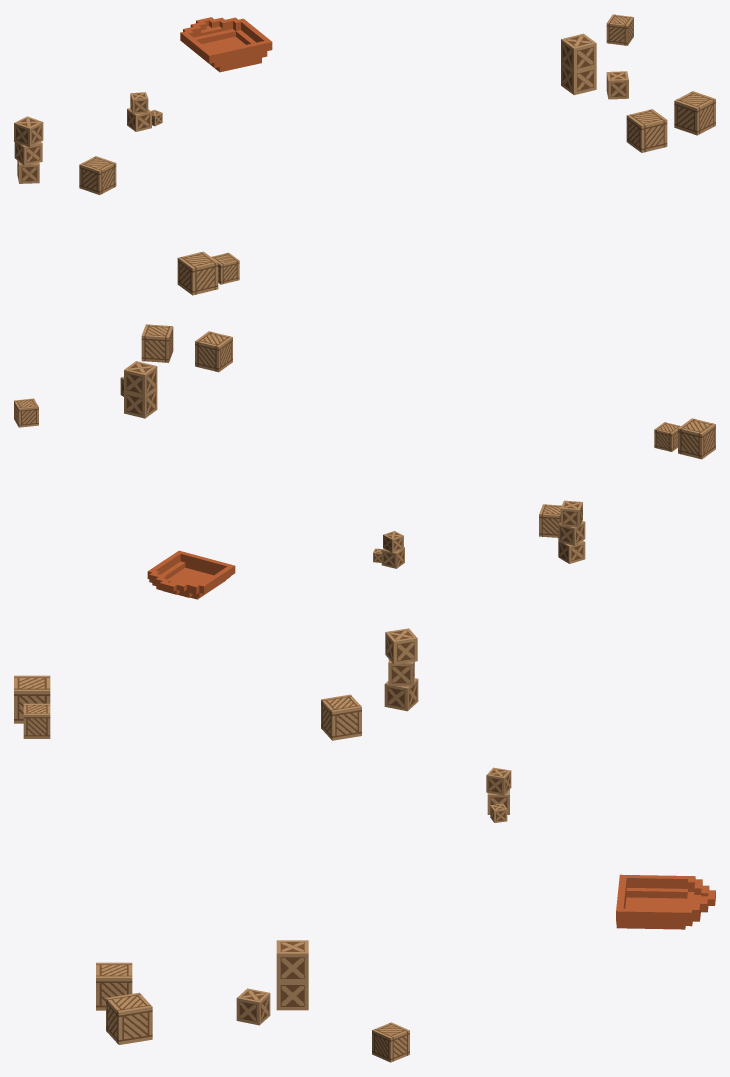
File: background_portTown_object.glb
3 renders of one model, top to bottom at view 1: azimuth 30°, elevation 25°; view 2: azimuth 150°, elevation 25°; view 3: azimuth 270°, elevation 25°, orthographic. The views are drawn at different scales.
Visible parts, largest first — view 1: Untitled.011, Untitled.007, Untitled.008, Untitled.005, Untitled.016, Untitled.002, Untitled.010, Untitled.012, Untitled.015, Untitled.006, Untitled.004, Untitled.014 (+2 smaller); view 2: Untitled.011, Untitled.005, Untitled.007, Untitled.008, Untitled.002, Untitled.010, Untitled.016, Untitled.012, Untitled.006, Untitled.015, Untitled.013, Untitled.014; view 3: Untitled.011, Untitled.008, Untitled.016, Untitled.002, Untitled.007, Untitled.005, Untitled.012, Untitled.004, Untitled.015, Untitled.006, Untitled.010, Untitled.013.
Boxes of the visible parts, x1,y1,x2,y2 form: Untitled.011: [180, 17, 272, 72]; Untitled.007: [626, 109, 667, 152]; Untitled.008: [674, 91, 715, 135]; Untitled.005: [177, 251, 218, 295]; Untitled.016: [79, 156, 116, 194]; Untitled.002: [561, 33, 596, 72]; Untitled.010: [561, 63, 596, 95]; Untitled.012: [606, 14, 633, 45]; Untitled.015: [14, 116, 43, 147]; Untitled.006: [211, 252, 239, 284]; Untitled.004: [606, 71, 628, 99]; Untitled.014: [14, 142, 42, 165]; Untitled.011: [147, 550, 235, 599]; Untitled.005: [678, 418, 715, 459]; Untitled.007: [195, 331, 232, 372]; Untitled.008: [141, 324, 173, 362]; Untitled.002: [124, 361, 157, 396]; Untitled.010: [124, 389, 157, 418]; Untitled.016: [539, 504, 561, 537]; Untitled.012: [14, 398, 38, 427]; Untitled.006: [654, 422, 680, 451]; Untitled.015: [560, 500, 582, 527]; Untitled.013: [558, 540, 585, 563]; Untitled.014: [558, 521, 585, 545]; Untitled.011: [616, 874, 715, 929]; Untitled.008: [106, 992, 152, 1044]; Untitled.016: [321, 694, 361, 740]; Untitled.002: [276, 940, 308, 982]; Untitled.007: [96, 962, 132, 1010]; Untitled.005: [14, 675, 50, 723]; Untitled.012: [372, 1022, 409, 1062]; Untitled.004: [236, 988, 270, 1025]; Untitled.015: [385, 628, 417, 664]; Untitled.006: [23, 703, 50, 738]; Untitled.010: [276, 982, 308, 1010]; Untitled.013: [384, 678, 418, 711].
Bounding box in the file's own units: 23.81 × 3.11 × 19.4.
2 materials, 2 textured.
